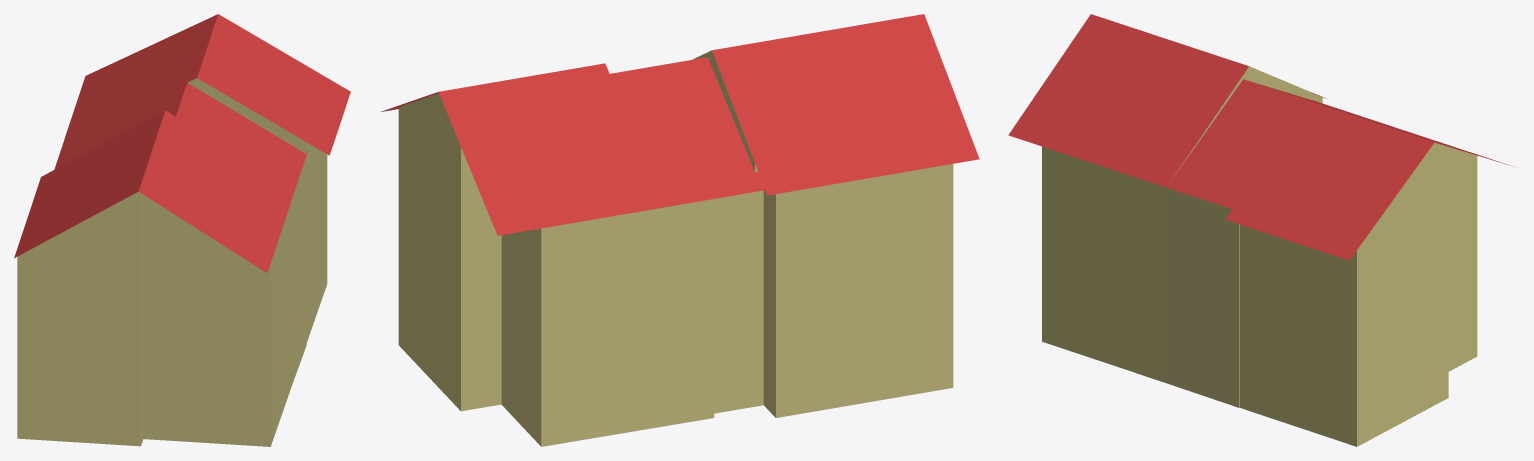
3 views of the same model, side by side, from view 1: azimuth 30°, elevation 25°; view 2: azimuth 150°, elevation 25°; view 3: azimuth 270°, elevation 25° (orthographic). The views are drawn at different scales.
Parts seen in each view (by area): view 1: group_5, group_3, group_11, group_7, group_13, group_9; view 2: group_13, group_5, group_3, group_11, group_9, group_7; view 3: group_13, group_5, group_3, group_11, group_9, group_7.
Part boxes in pixels (x1,y1,x2,y2): group_5: (17,191,293,446); group_3: (14,110,294,272); group_11: (65,14,350,155); group_7: (54,79,307,191); group_13: (187,78,327,339); group_9: (293,153,307,381); group_13: (398,93,650,446); group_5: (693,50,953,417); group_3: (712,14,979,195); group_11: (381,63,654,235); group_9: (650,192,754,428); group_7: (600,57,764,208); group_13: (1247,142,1477,446); group_5: (1042,66,1322,383); group_3: (1008,14,1326,187); group_11: (1225,101,1513,260); group_9: (1167,188,1246,409); group_7: (1167,79,1392,209).
Size of the model in its own units: 26.07 by 26.42 by 15.56.
